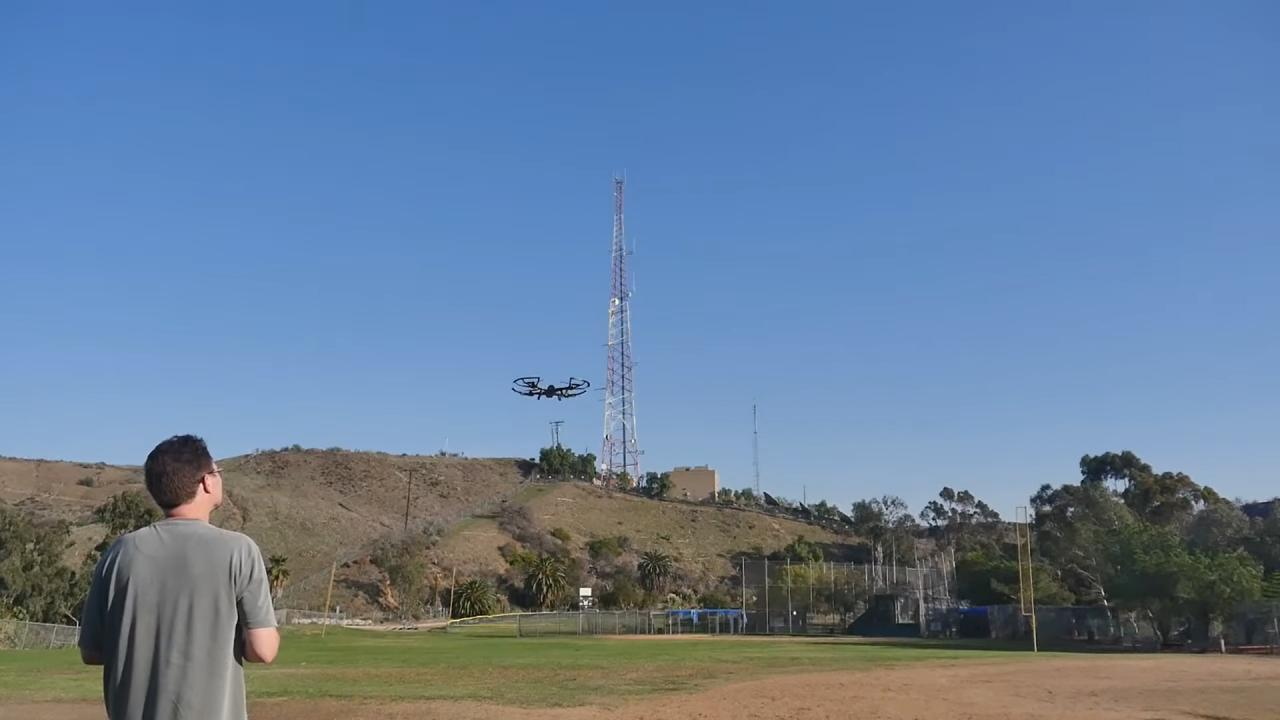Drone: (502, 362, 600, 413)
